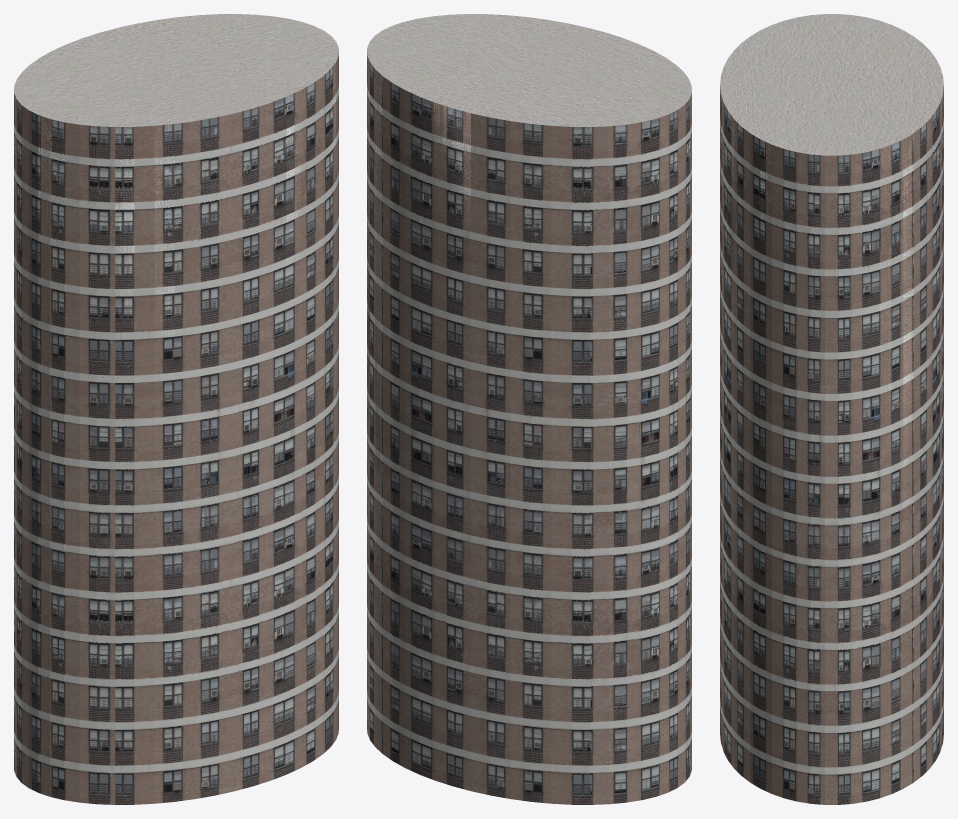
Rendered from building43.gltf.
The picture shows the model from 3 angles, left to right: view 1: azimuth 30°, elevation 25°; view 2: azimuth 150°, elevation 25°; view 3: azimuth 270°, elevation 25°; orthographic projection. The views are drawn at different scales.
Parts seen in each view (by area): view 1: building43, building43_cell, building43_cell.001, building43_cell.004, building43_cell.002, building43_cell.003; view 2: building43, building43_cell.003, building43_cell.004, building43_cell.002, building43_cell, building43_cell.001; view 3: building43, building43_cell.002, building43_cell.001, building43_cell, building43_cell.003, building43_cell.004.
Part boxes in pixels (box(x1,y1,x2,y2)): building43: box(14, 14, 338, 804); building43_cell: box(14, 19, 338, 421); building43_cell.001: box(70, 400, 338, 804); building43_cell.004: box(14, 16, 193, 482); building43_cell.002: box(188, 14, 338, 412); building43_cell.003: box(28, 478, 69, 792); building43: box(367, 14, 691, 804); building43_cell.003: box(370, 472, 691, 804); building43_cell.004: box(412, 90, 691, 474); building43_cell.002: box(367, 40, 589, 501); building43_cell: box(372, 14, 691, 241); building43_cell.001: box(367, 477, 369, 738); building43: box(720, 14, 943, 796); building43_cell.002: box(720, 115, 943, 562); building43_cell.001: box(720, 368, 890, 804); building43_cell: box(720, 14, 922, 336); building43_cell.003: box(891, 468, 943, 793); building43_cell.004: box(905, 31, 943, 185).
Size of the model in its own units: 2.25 by 4.8 by 1.5.
Materials: 2 (2 with a texture image).
